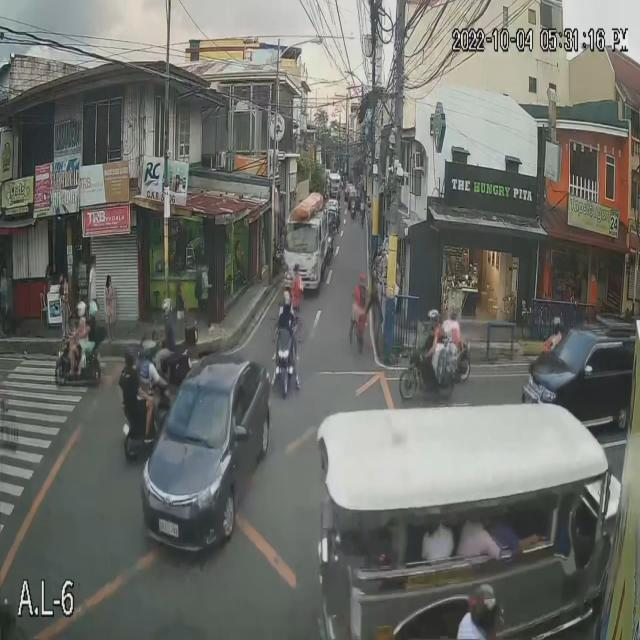full: (140, 339, 158, 361), (124, 345, 136, 367), (427, 309, 440, 329), (161, 298, 173, 317), (552, 315, 561, 337), (283, 290, 291, 306)
half: (88, 299, 98, 321), (76, 301, 86, 317)
